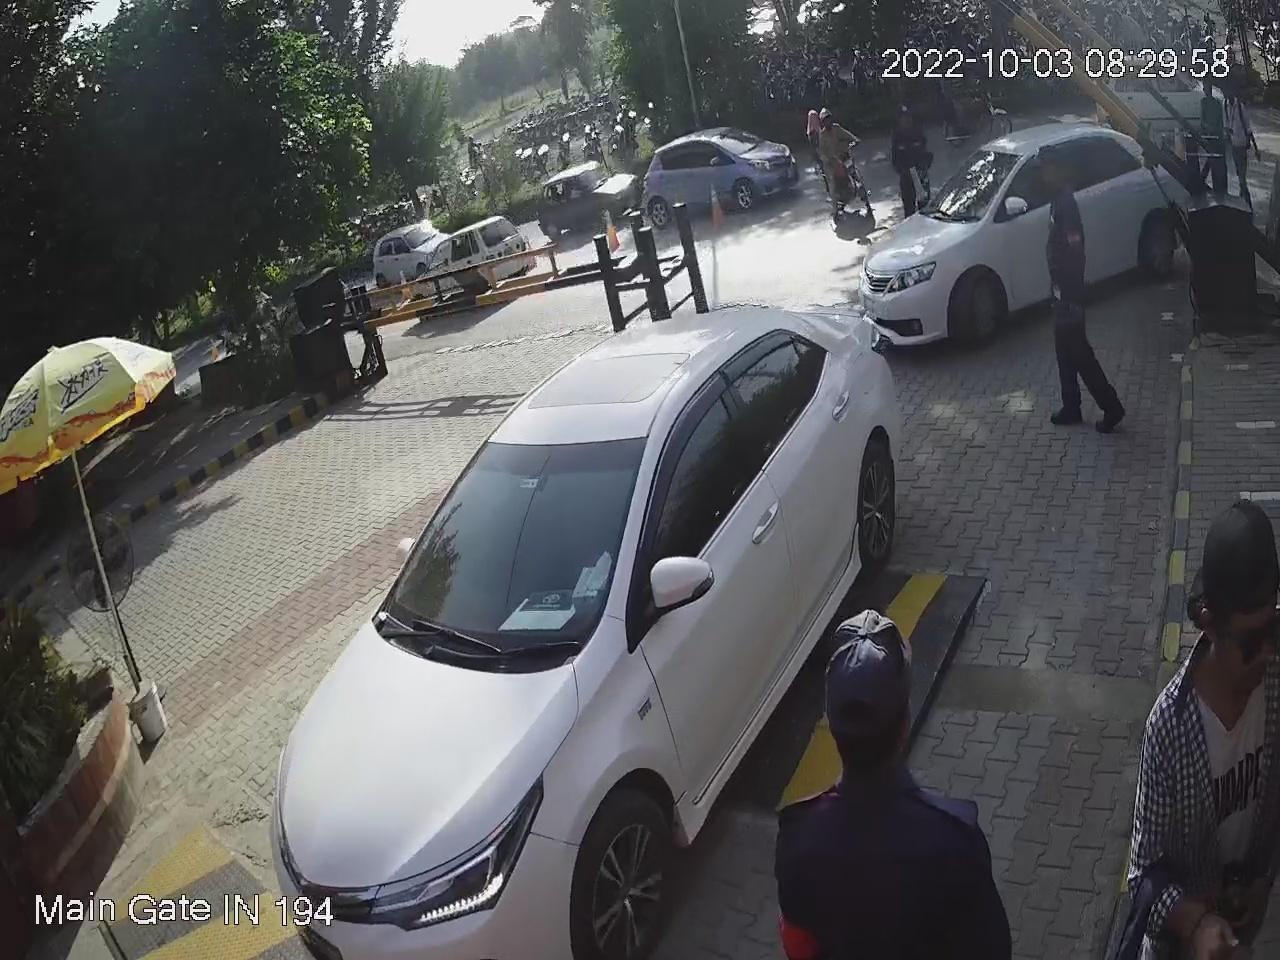windshield: (393, 435, 653, 635)
